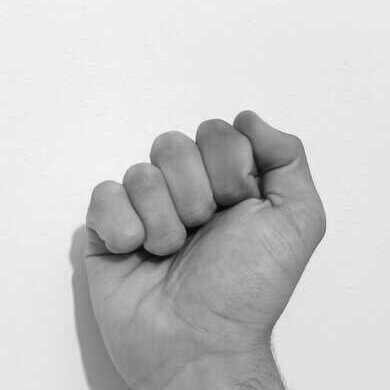A: (79, 107, 329, 387)
